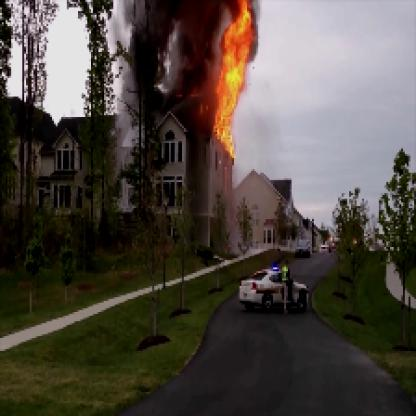Fire: (208, 2, 254, 163)
Smoke: (132, 2, 230, 119)
